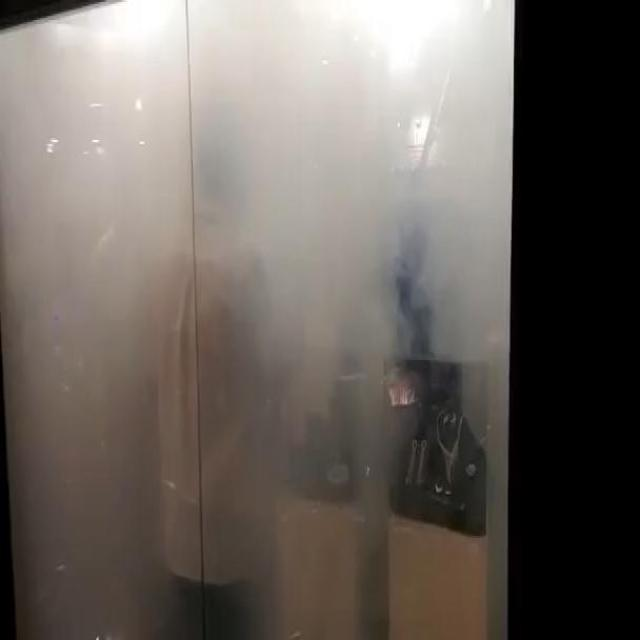Smoke: (0, 15, 500, 362)
